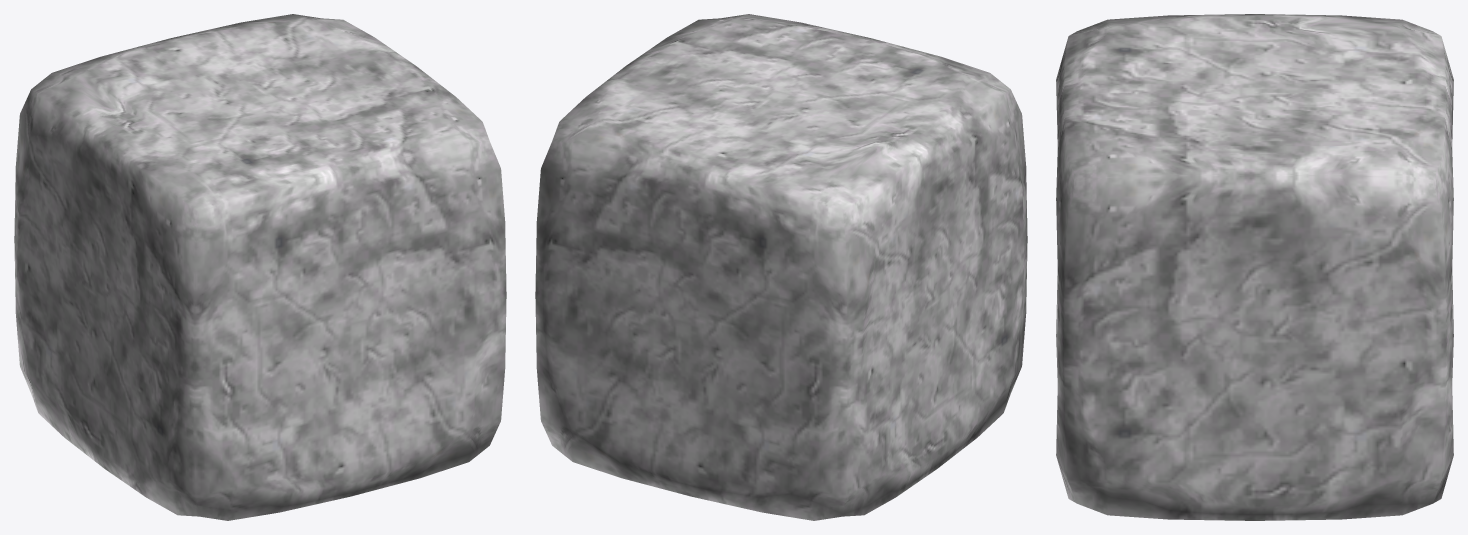
The model's file is INST_TROLLHOLE_MOVEABLOCK.fbx.
3 renders of one model, left to right at view 1: azimuth 30°, elevation 25°; view 2: azimuth 150°, elevation 25°; view 3: azimuth 270°, elevation 25°, orthographic. The views are drawn at different scales.
Visible parts, largest first — view 1: INST_TROLLHOLE_MOVEABLOCK; view 2: INST_TROLLHOLE_MOVEABLOCK; view 3: INST_TROLLHOLE_MOVEABLOCK.
Part boxes in pixels (bbox=[...]): INST_TROLLHOLE_MOVEABLOCK: bbox=[14, 14, 506, 520]; INST_TROLLHOLE_MOVEABLOCK: bbox=[535, 14, 1027, 520]; INST_TROLLHOLE_MOVEABLOCK: bbox=[1056, 14, 1453, 520].
Bounding box in the file's own units: 10100 × 10100 × 10100.
Materials: 1 (1 with a texture image).
